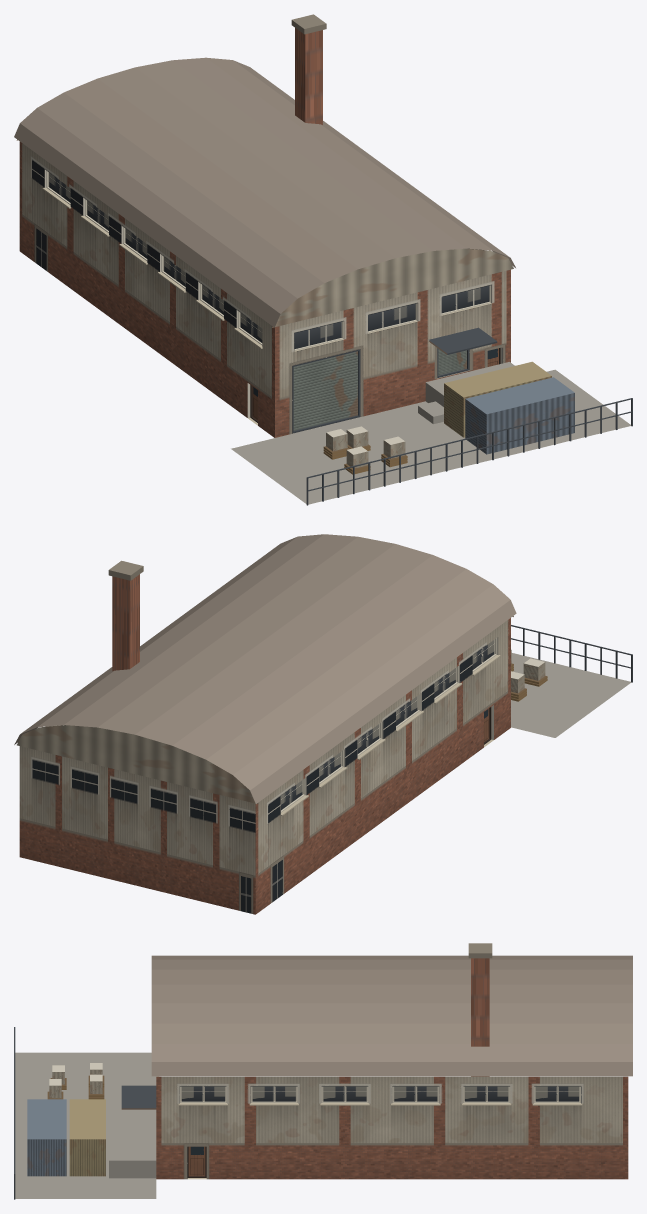
The model's file is hero_industrial_b.glb.
The picture shows the model from 3 angles, top to bottom: view 1: azimuth 30°, elevation 25°; view 2: azimuth 150°, elevation 25°; view 3: azimuth 270°, elevation 25°; orthographic projection. The views are drawn at different scales.
Parts seen in each view (by area): view 1: bld_hero_industrial_b; view 2: bld_hero_industrial_b; view 3: bld_hero_industrial_b.
Part boxes in pixels (x1,y1,x2,y2): bld_hero_industrial_b: (14, 14, 632, 505); bld_hero_industrial_b: (14, 534, 632, 914); bld_hero_industrial_b: (14, 943, 632, 1199).
Size of the model in its own units: 22.08 by 15.35 by 39.34.
Materials: 1 (1 with a texture image).
